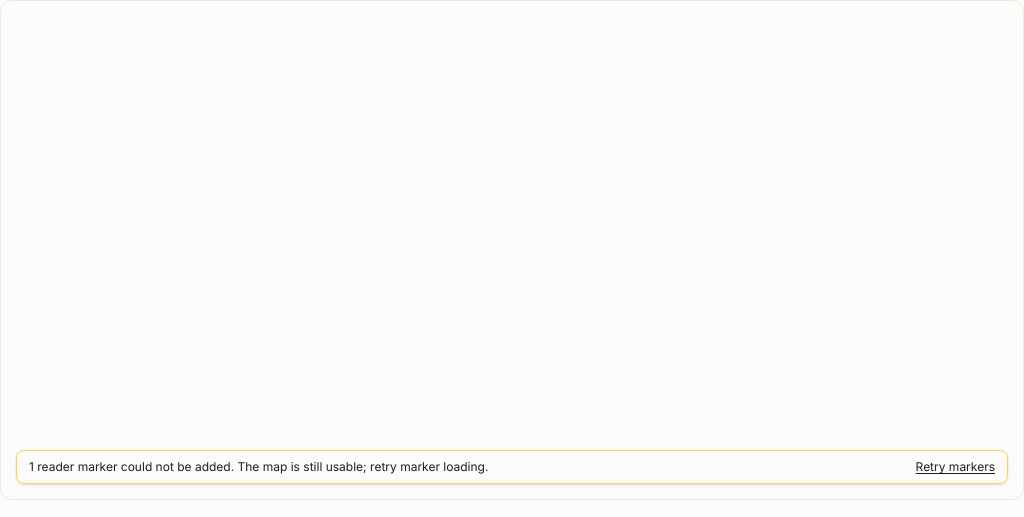
Test case: MapplsMap › retries only failed avatar markers without tearing down the map
Expected: the message shows "reader marker could not be added", [29,459,488,474]
Step 1. Click the button "Retry markers" → coordinates (955, 467), box [916,459,995,475]
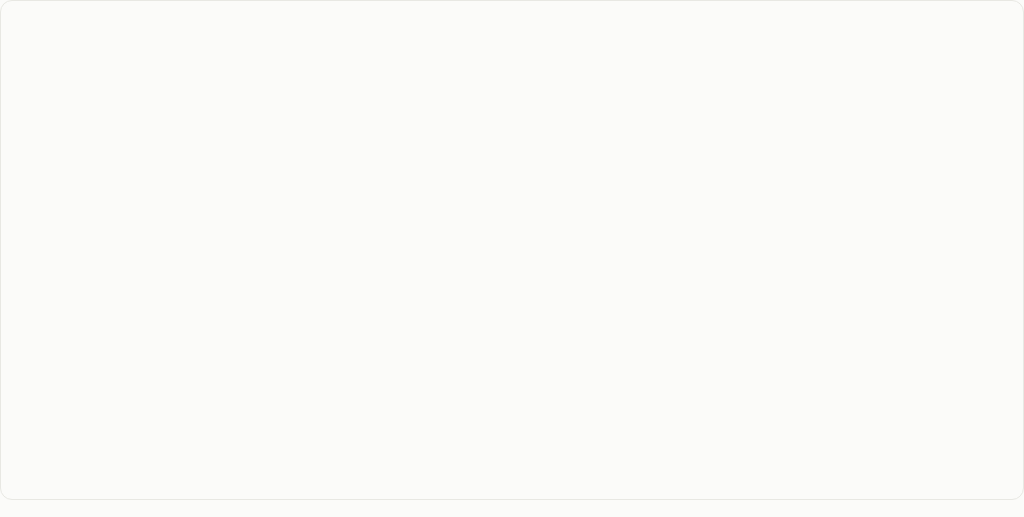
Result: the message is gone
